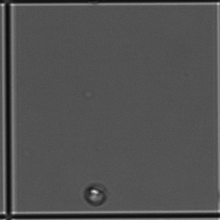Dead Cell: (81, 181, 111, 207)
